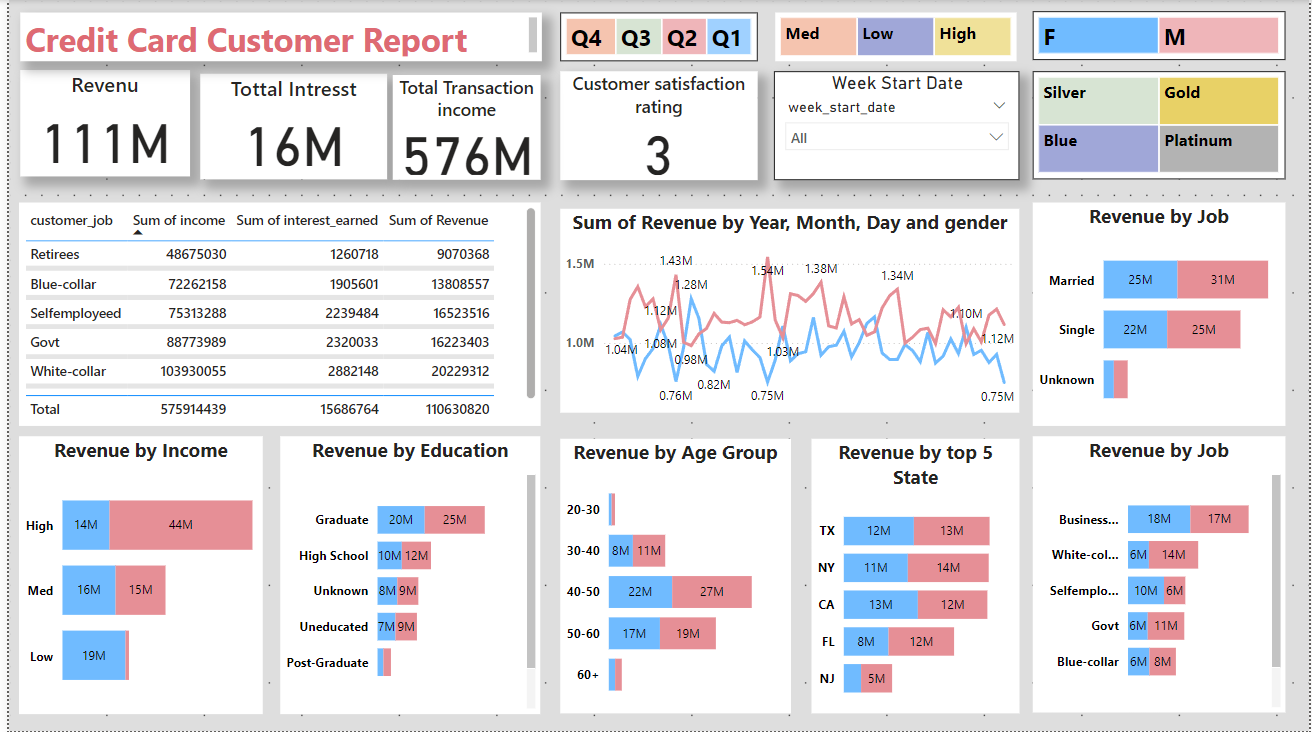

The page's visual inventory and layout, read from the dashboard file:
{"tool":"powerbi","page":{"name":"Credit Card Customer Report","canvas":[1280,720],"ordinal":1},"visuals":[{"type":"barChart","title":"Revenue by Job","fields":{"Y":["Sum(public cc_detail.Revenue)"],"Category":["public cust_detail.customer_job"],"Series":["public cust_detail.gender"]},"box":[1008,429.5,248.6,272],"z":0},{"type":"tableEx","fields":{"Values":["public cust_detail.customer_job","public cust_detail.income","Sum(public cc_detail.interest_earned)","Sum(public cc_detail.Revenue)"]},"box":[10.2,199.3,513.5,219.6],"z":1000},{"type":"card","title":"Revenu","fields":{"Values":["Sum(public cc_detail.Revenue)"]},"box":[10.7,69.3,167.1,104.9],"z":2000},{"type":"card","title":"Customer satisfaction rating ","fields":{"Values":["Avg(public cust_detail.cust_satisfaction_score)"]},"box":[542.5,69.8,194.9,104.7],"z":3000},{"type":"card","title":"Tottal Intresst","fields":{"Values":["Sum(public cc_detail.interest_earned)"]},"box":[188,72,184,104],"z":4000},{"type":"textbox","box":[10.7,12.4,513.8,48],"z":5000},{"type":"slicer","title":"Week Start Date","fields":{"Values":["public cc_detail.week_start_date"]},"box":[754.5,70.2,237.5,103.4],"z":6000},{"type":"treemap","fields":{"Group":["public cc_detail.qtr"],"Values":["Avg(public cc_detail.client_num)"]},"box":[542.8,12.3,194.5,48],"z":7000},{"type":"treemap","fields":{"Values":["Avg(public cc_detail.client_num)"],"Group":["public cust_detail.gender"]},"box":[1008,12.4,248.9,48],"z":8000},{"type":"treemap","fields":{"Values":["Avg(public cc_detail.client_num)"],"Group":["public cc_detail.card_category"]},"box":[1008,72,248,104],"z":9000},{"type":"treemap","fields":{"Values":["Avg(public cc_detail.client_num)"],"Group":["public cust_detail.IncomeGroup"]},"box":[754.5,12.3,237.5,48],"z":10000},{"type":"card","title":"Total Transaction income","fields":{"Values":["Sum(public cust_detail.income)"]},"box":[378.2,74.2,145.5,103.3],"z":11000},{"type":"lineChart","fields":{"Y":["Sum(public cc_detail.Revenue)"],"Series":["public cust_detail.gender"],"Category":["public cc_detail.week_start_date.Variation.Date Hierarchy.Year","public cc_detail.week_start_date.Variation.Date Hierarchy.Month","public cc_detail.week_start_date.Variation.Date Hierarchy.Day"]},"box":[542.5,205.1,452.4,200.7],"z":12000},{"type":"barChart","title":"Revenue by Income","fields":{"Y":["Sum(public cc_detail.Revenue)"],"Category":["public cust_detail.IncomeGroup"],"Series":["public cust_detail.gender"]},"box":[10.2,429.1,240,273.5],"z":13000},{"type":"barChart","title":"Revenue by Age Group","fields":{"Y":["Sum(public cc_detail.Revenue)"],"Category":["public cust_detail.AgeGroup"],"Series":["public cust_detail.gender"]},"box":[542.5,432,226.9,270.5],"z":14000},{"type":"barChart","title":"Revenue by Education","fields":{"Y":["Sum(public cc_detail.Revenue)"],"Category":["public cust_detail.education_level"],"Series":["public cust_detail.gender"]},"box":[267.1,429.5,256,273.2],"z":15000},{"type":"barChart","title":"Revenue by top 5 State","fields":{"Y":["Sum(public cc_detail.Revenue)"],"Category":["public cust_detail.state_cd"],"Series":["public cust_detail.gender"]},"box":[789.8,432,205.1,270.5],"z":16000},{"type":"barChart","title":"Revenue by Job","fields":{"Y":["Sum(public cc_detail.Revenue)"],"Category":["public cust_detail.marital_status"],"Series":["public cust_detail.gender"]},"box":[1008,199.3,248.7,219.6],"z":17000}]}

Visuals, with their boxes in screenshot pixels (x1, y1, x2, y2), scaled from the page's 1280x720 canvas onto the 1312x732 screenshot:
"Revenue by Job" barChart: x1=1033, y1=437, x2=1288, y2=713
tableEx - public cust_detail.customer_job x public cust_detail.income: x1=10, y1=203, x2=537, y2=426
"Revenu" card: x1=11, y1=70, x2=182, y2=177
"Customer satisfaction rating " card: x1=556, y1=71, x2=756, y2=177
"Tottal Intresst" card: x1=193, y1=73, x2=381, y2=179
textbox: x1=11, y1=13, x2=538, y2=61
"Week Start Date" slicer: x1=773, y1=71, x2=1017, y2=176
treemap - public cc_detail.qtr x Avg(public cc_detail.client_num): x1=556, y1=13, x2=756, y2=61
treemap - Avg(public cc_detail.client_num) x public cust_detail.gender: x1=1033, y1=13, x2=1288, y2=61
treemap - Avg(public cc_detail.client_num) x public cc_detail.card_category: x1=1033, y1=73, x2=1287, y2=179
treemap - Avg(public cc_detail.client_num) x public cust_detail.IncomeGroup: x1=773, y1=13, x2=1017, y2=61
"Total Transaction income" card: x1=388, y1=75, x2=537, y2=180
lineChart - Sum(public cc_detail.Revenue) x public cust_detail.gender: x1=556, y1=209, x2=1020, y2=413
"Revenue by Income" barChart: x1=10, y1=436, x2=256, y2=714
"Revenue by Age Group" barChart: x1=556, y1=439, x2=789, y2=714
"Revenue by Education" barChart: x1=274, y1=437, x2=536, y2=714
"Revenue by top 5 State" barChart: x1=810, y1=439, x2=1020, y2=714
"Revenue by Job" barChart: x1=1033, y1=203, x2=1288, y2=426
